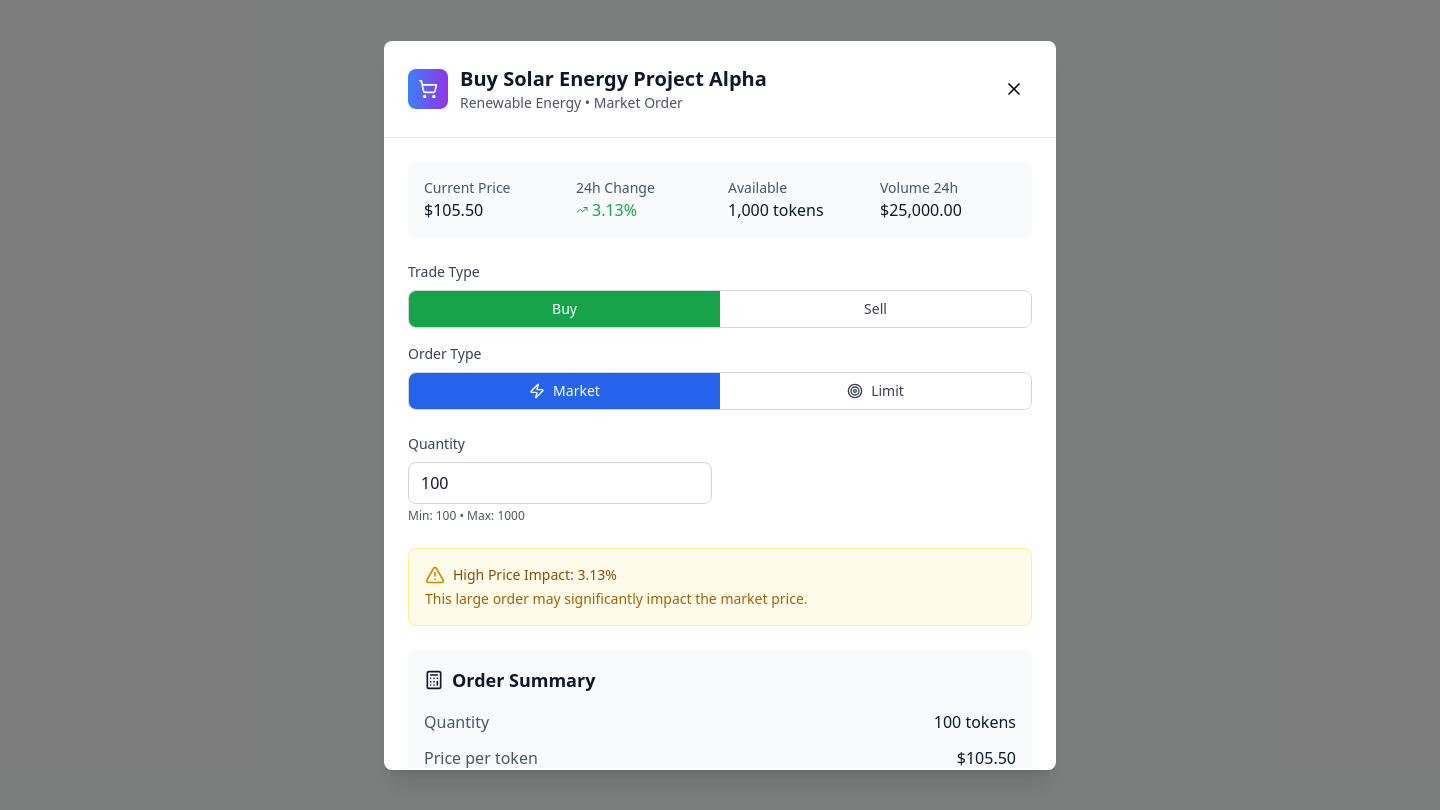
TradeModal › switches between buy and sell orders
The width and height of the screenshot is (1440, 810).
Click the button "Sell" at (876, 308), box [720, 290, 1031, 326]
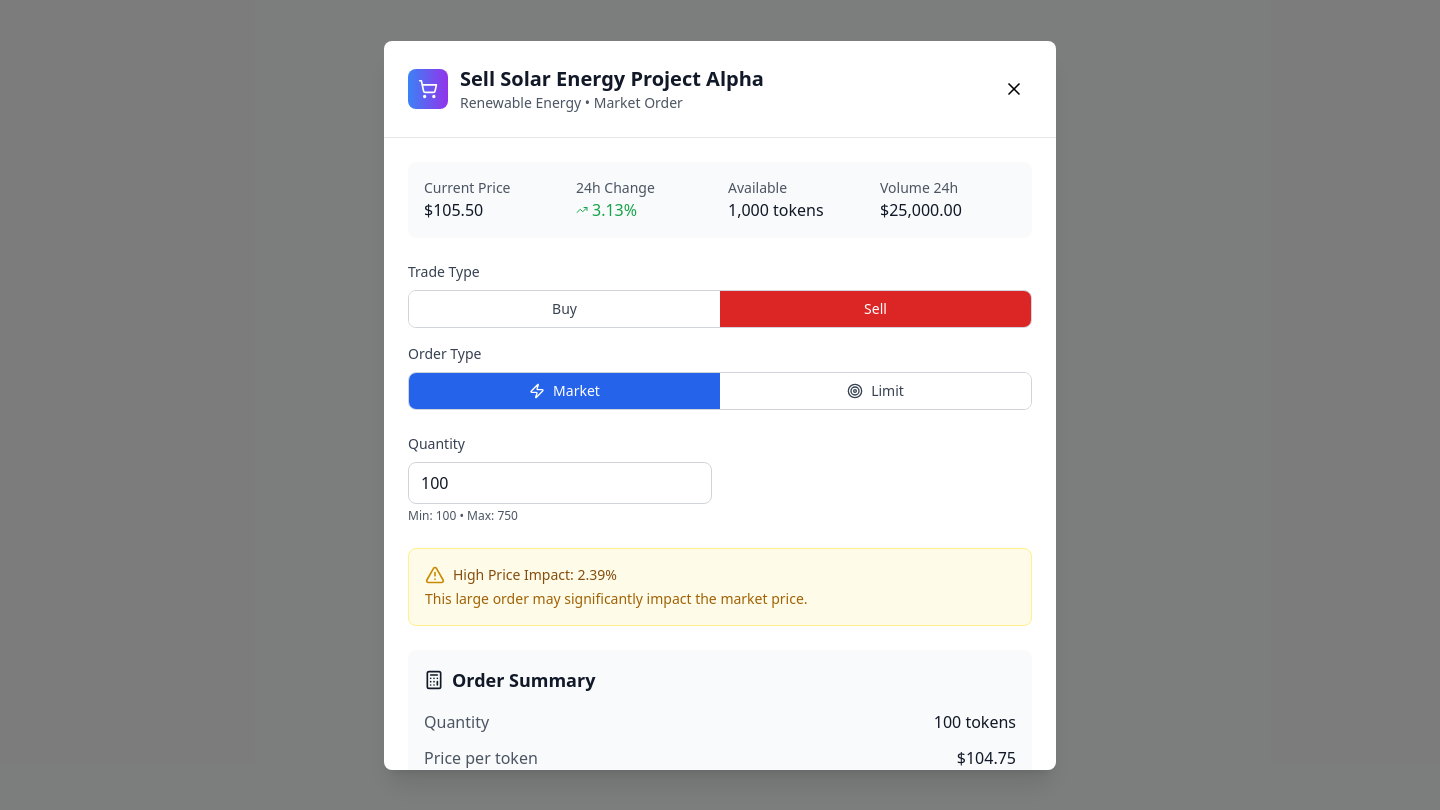
expect the heading "Sell Solar Energy Project Alpha" is shown: met, box [460, 64, 764, 92]
